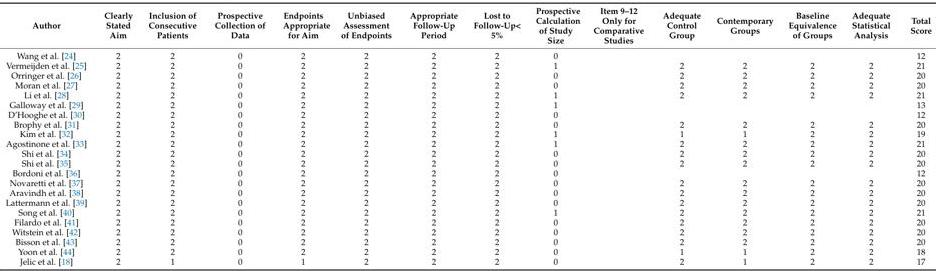table: (5, 5, 931, 266)
table column: (5, 5, 95, 266), (708, 5, 780, 266), (205, 5, 273, 266), (586, 5, 653, 266), (140, 5, 205, 266), (335, 5, 400, 266), (400, 5, 465, 266), (780, 5, 843, 266), (273, 5, 335, 266), (465, 5, 527, 266), (527, 5, 586, 266), (843, 5, 900, 266), (653, 5, 708, 266), (95, 5, 140, 266), (900, 5, 931, 266)
table column header: (5, 5, 931, 47)
table row: (5, 5, 931, 47), (5, 47, 931, 60), (5, 60, 931, 70), (5, 70, 931, 80), (5, 89, 931, 99), (5, 99, 931, 109), (5, 109, 931, 119), (5, 119, 931, 129), (5, 138, 931, 148), (5, 148, 931, 158), (5, 158, 931, 168), (5, 177, 931, 187), (5, 187, 931, 197), (5, 197, 931, 207), (5, 207, 931, 217), (5, 226, 931, 236), (5, 236, 931, 246), (5, 246, 931, 256), (5, 256, 931, 266), (5, 80, 931, 89), (5, 129, 931, 138), (5, 168, 931, 177), (5, 217, 931, 226)
